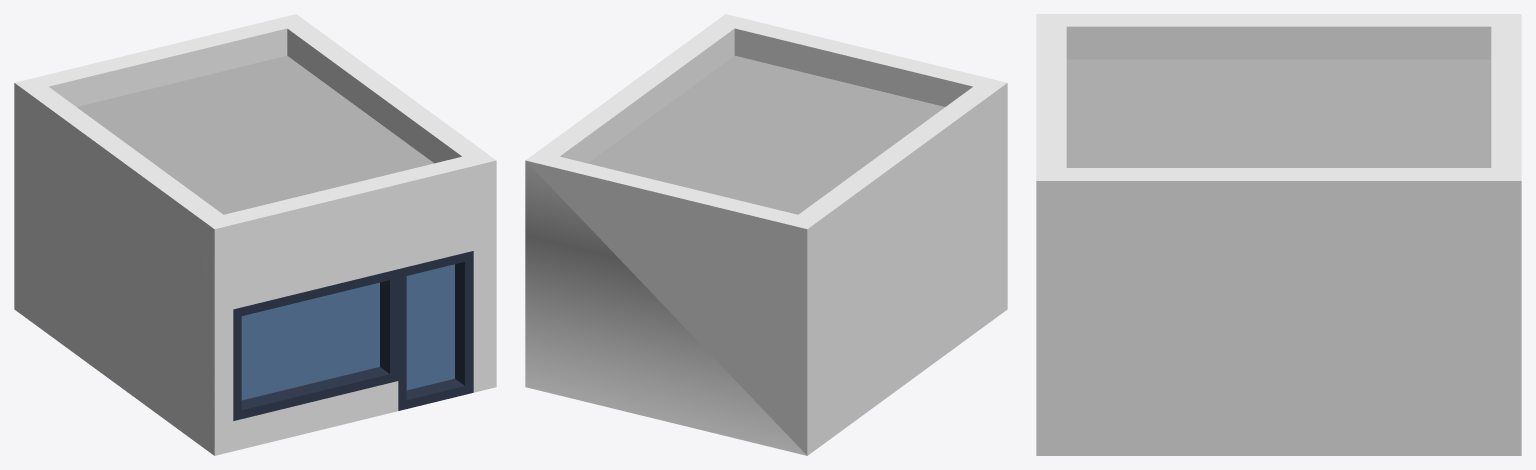
File: commercial_house_05.fbx
The picture shows the model from 3 angles, left to right: view 1: azimuth 30°, elevation 25°; view 2: azimuth 150°, elevation 25°; view 3: azimuth 270°, elevation 25°; orthographic projection. The views are drawn at different scales.
Visible parts, largest first — view 1: Box304; view 2: Box304; view 3: Box304.
Boxes of the visible parts, x1,y1,x2,y2 form: Box304: [14, 14, 496, 455]; Box304: [525, 14, 1007, 455]; Box304: [1036, 14, 1521, 455].
Size of the model in its own units: 651 by 500 by 800.
Materials: 1 (1 with a texture image).
